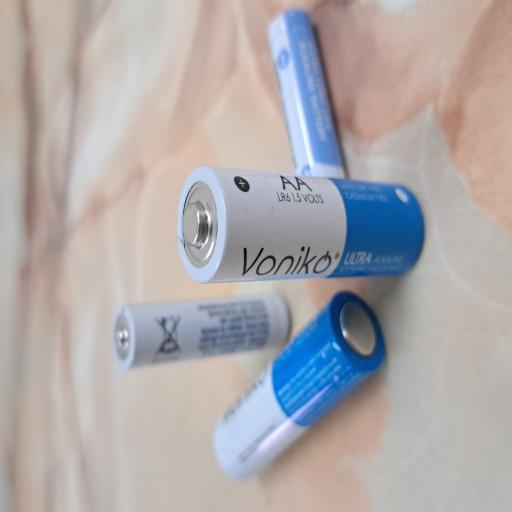battery: (23, 281, 165, 512), (172, 236, 259, 512), (104, 147, 170, 386), (251, 355, 375, 458)
